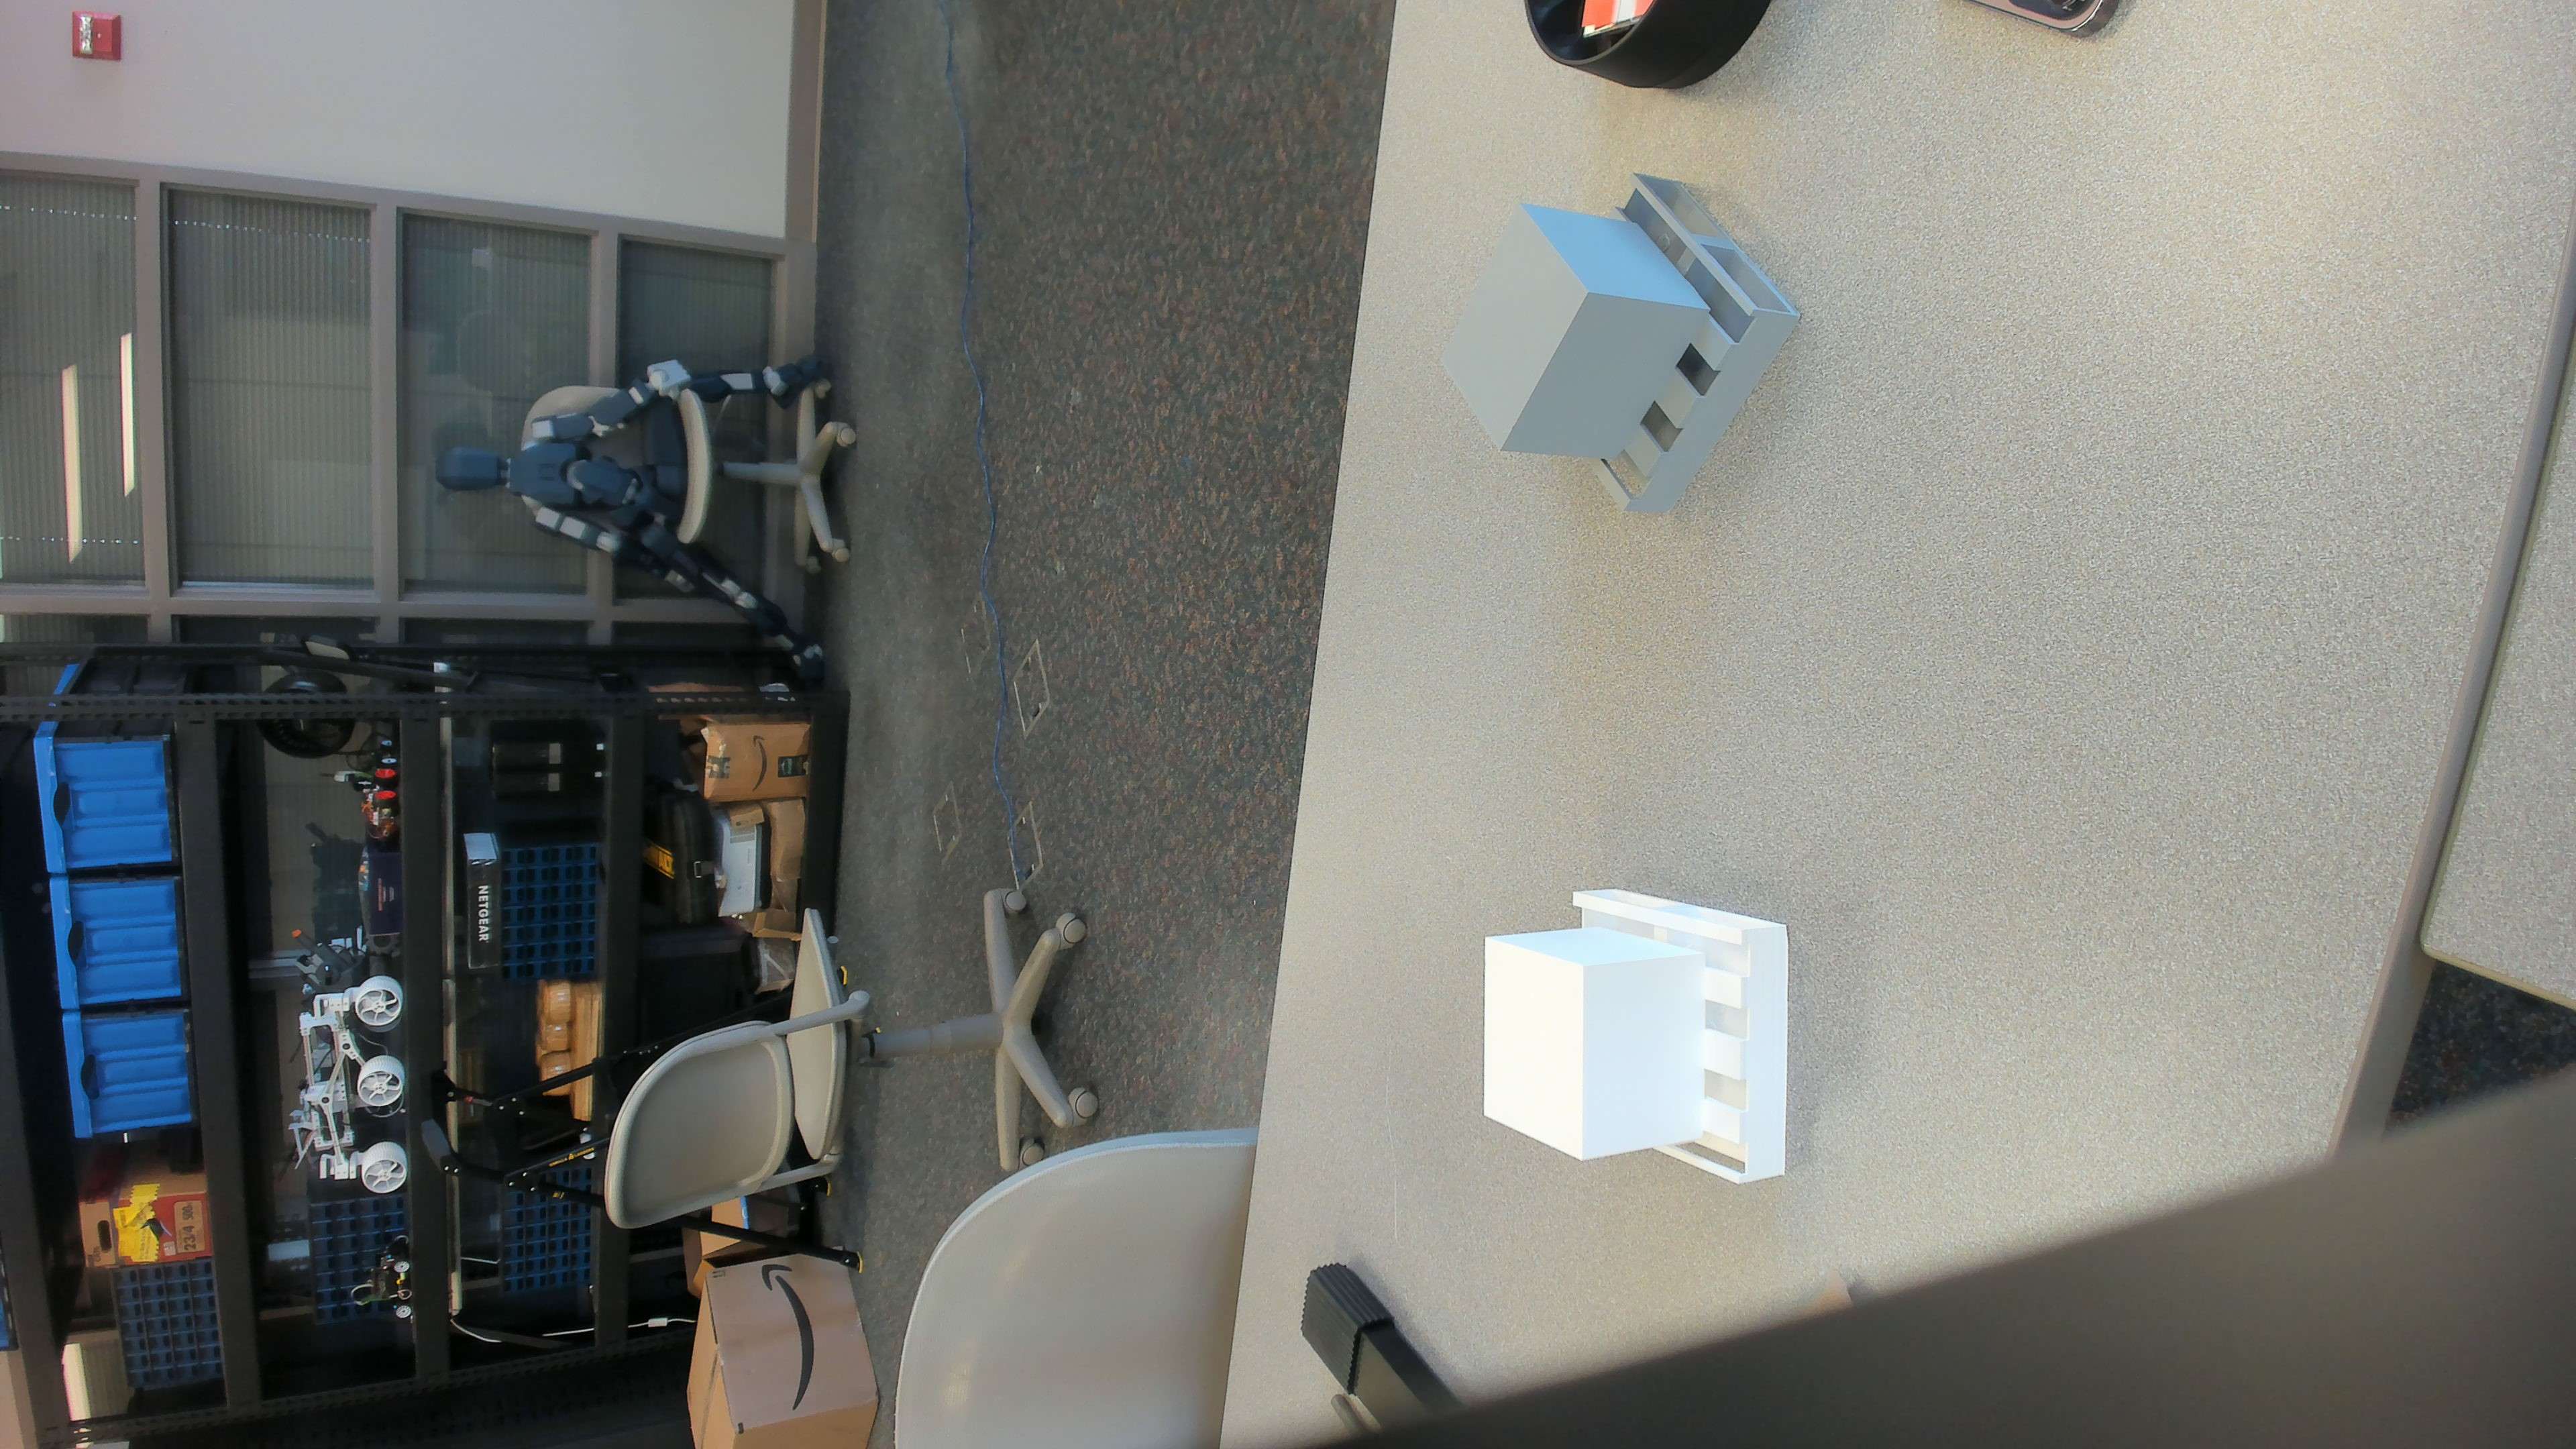grey pallet: (1431, 159, 1819, 541)
white pallet: (1474, 883, 1805, 1208)
